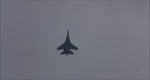maybay_muctieu: (55, 28, 79, 56)
